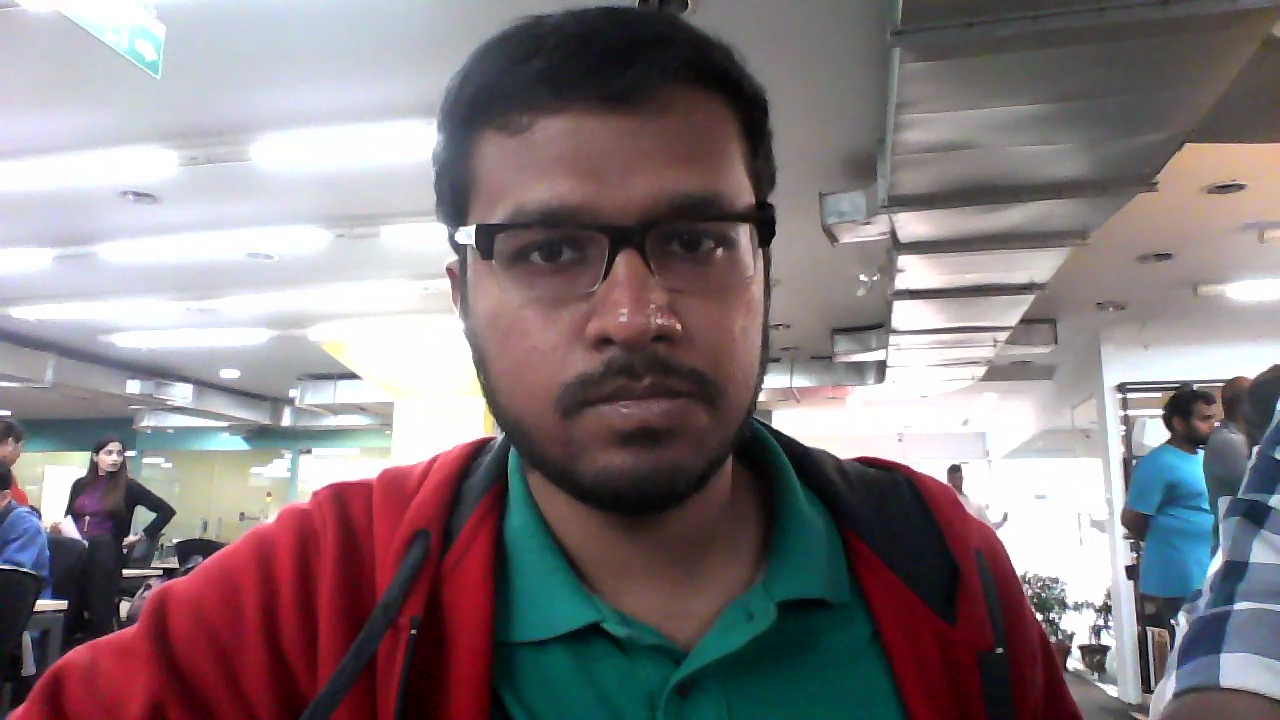open: (434, 3, 784, 524)
